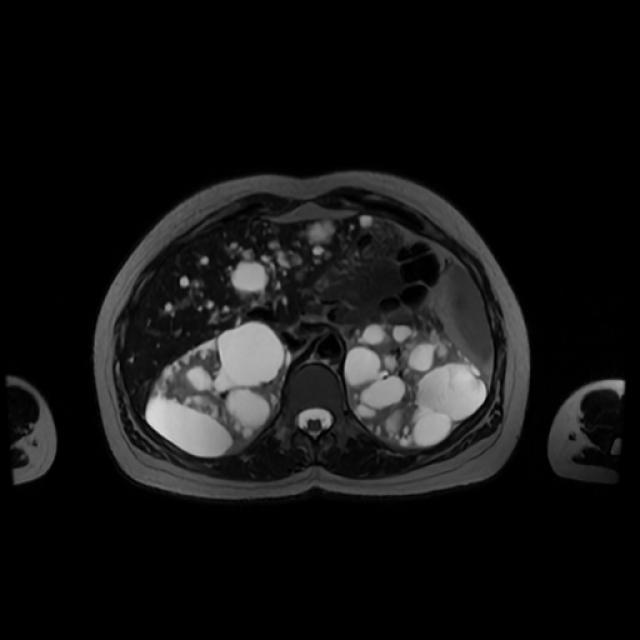sag: (143, 322, 292, 457)
sol: (346, 323, 483, 447)
